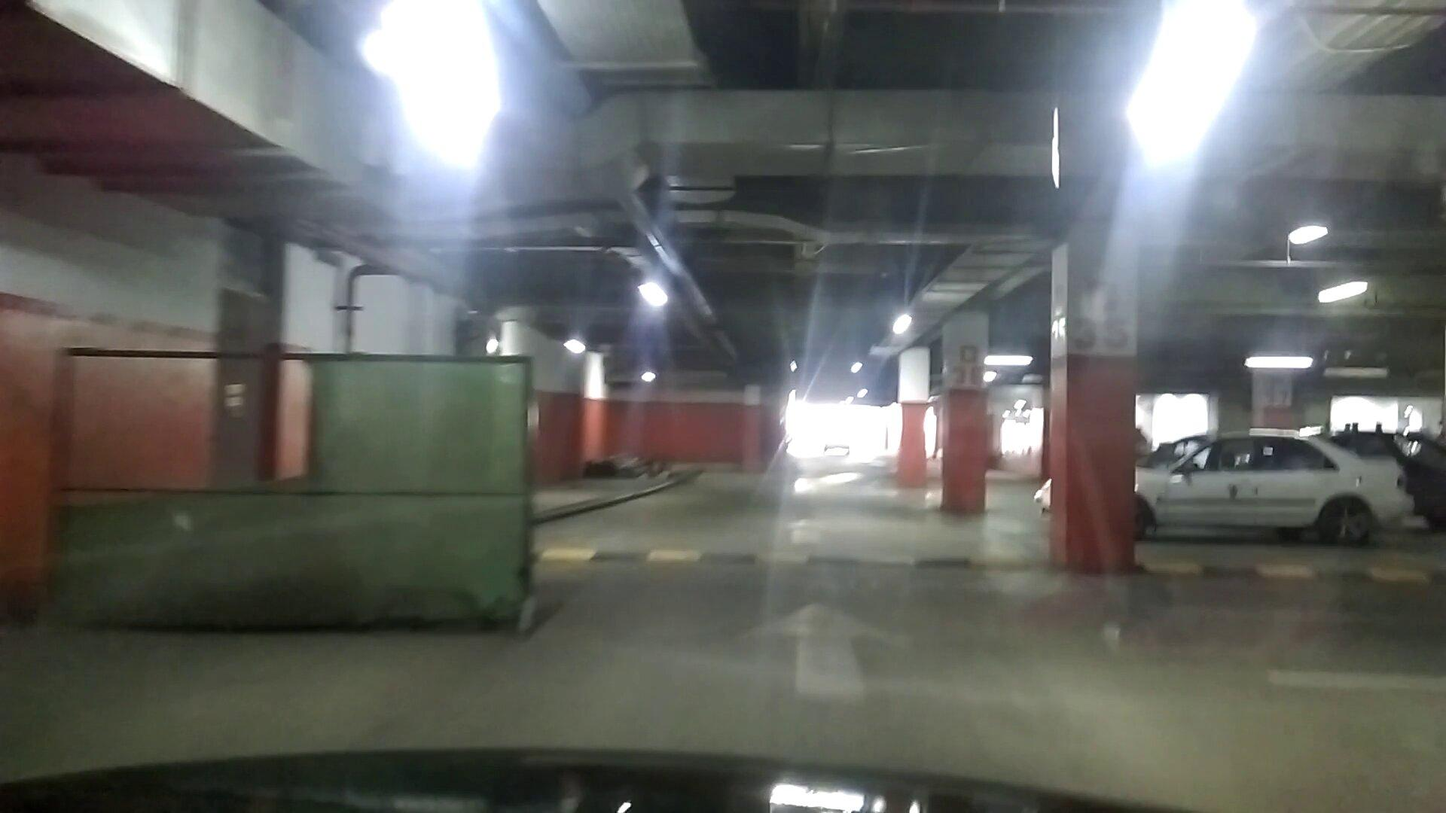Bump: (538, 540, 1037, 578)
